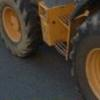Tractor: (7, 2, 100, 92)
